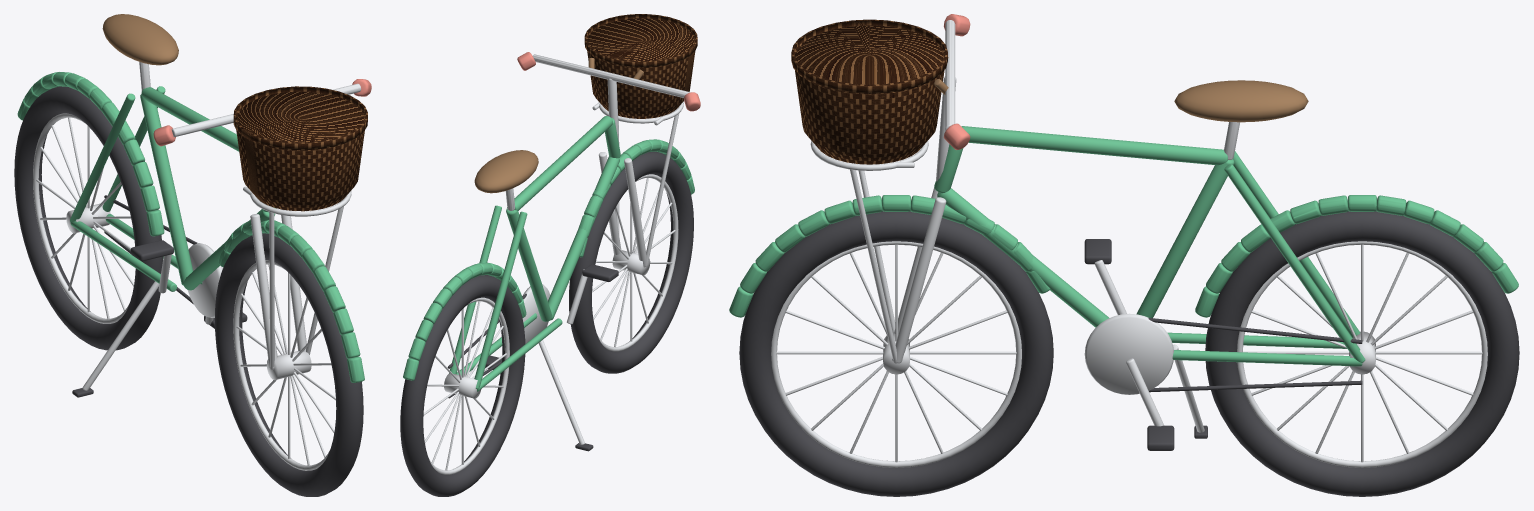
Rendered from bike_green.glb.
3 renders of one model, left to right at view 1: azimuth 30°, elevation 25°; view 2: azimuth 150°, elevation 25°; view 3: azimuth 270°, elevation 25°, orthographic. The views are drawn at different scales.
Parts seen in each view (by area): view 1: bike_green; view 2: bike_green; view 3: bike_green.
Boxes of the visible parts, x1,y1,x2,y2 form: bike_green: (14,14,371,496); bike_green: (400,14,700,496); bike_green: (729,14,1519,496).
Size of the model in its own units: 0.6495 by 1.09 by 1.76.
6 materials, 1 textured.
